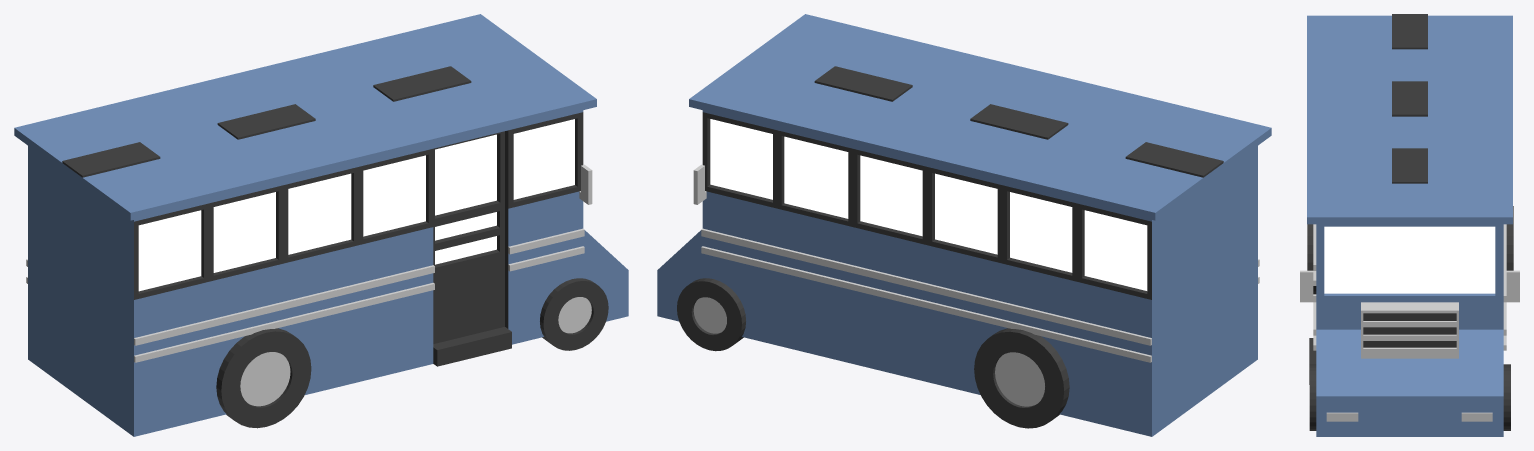
File: Car 1.4.fbx
3 views of the same model, side by side, from view 1: azimuth 30°, elevation 25°; view 2: azimuth 150°, elevation 25°; view 3: azimuth 270°, elevation 25° (orthographic). The views are drawn at different scales.
Visible parts, largest first — view 1: Car_2.004; view 2: Car_2.004; view 3: Car_2.004.
Part boxes in pixels (left/top/right/bottom): Car_2.004: left=14, top=14, right=628, bottom=436; Car_2.004: left=657, top=14, right=1271, bottom=436; Car_2.004: left=1300, top=14, right=1519, bottom=436.
Bounding box in the file's own units: 768 × 362 × 327.
